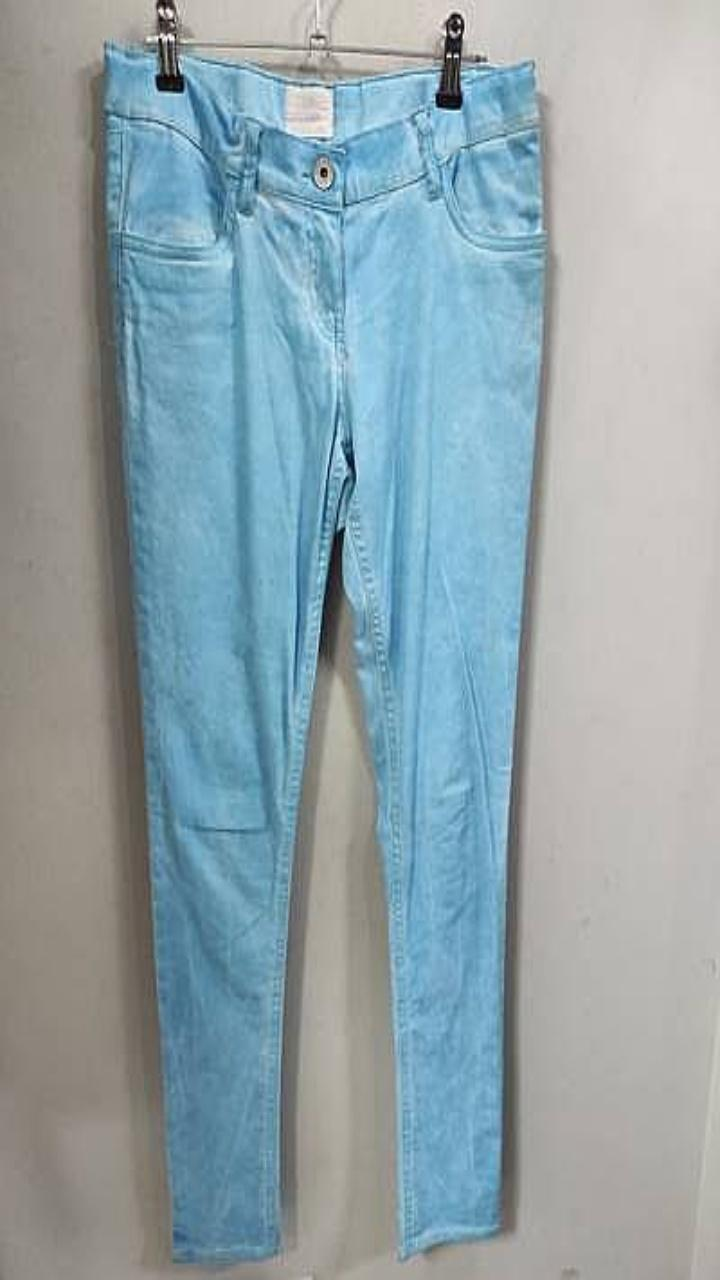Jeans: (104, 42, 545, 1262)
